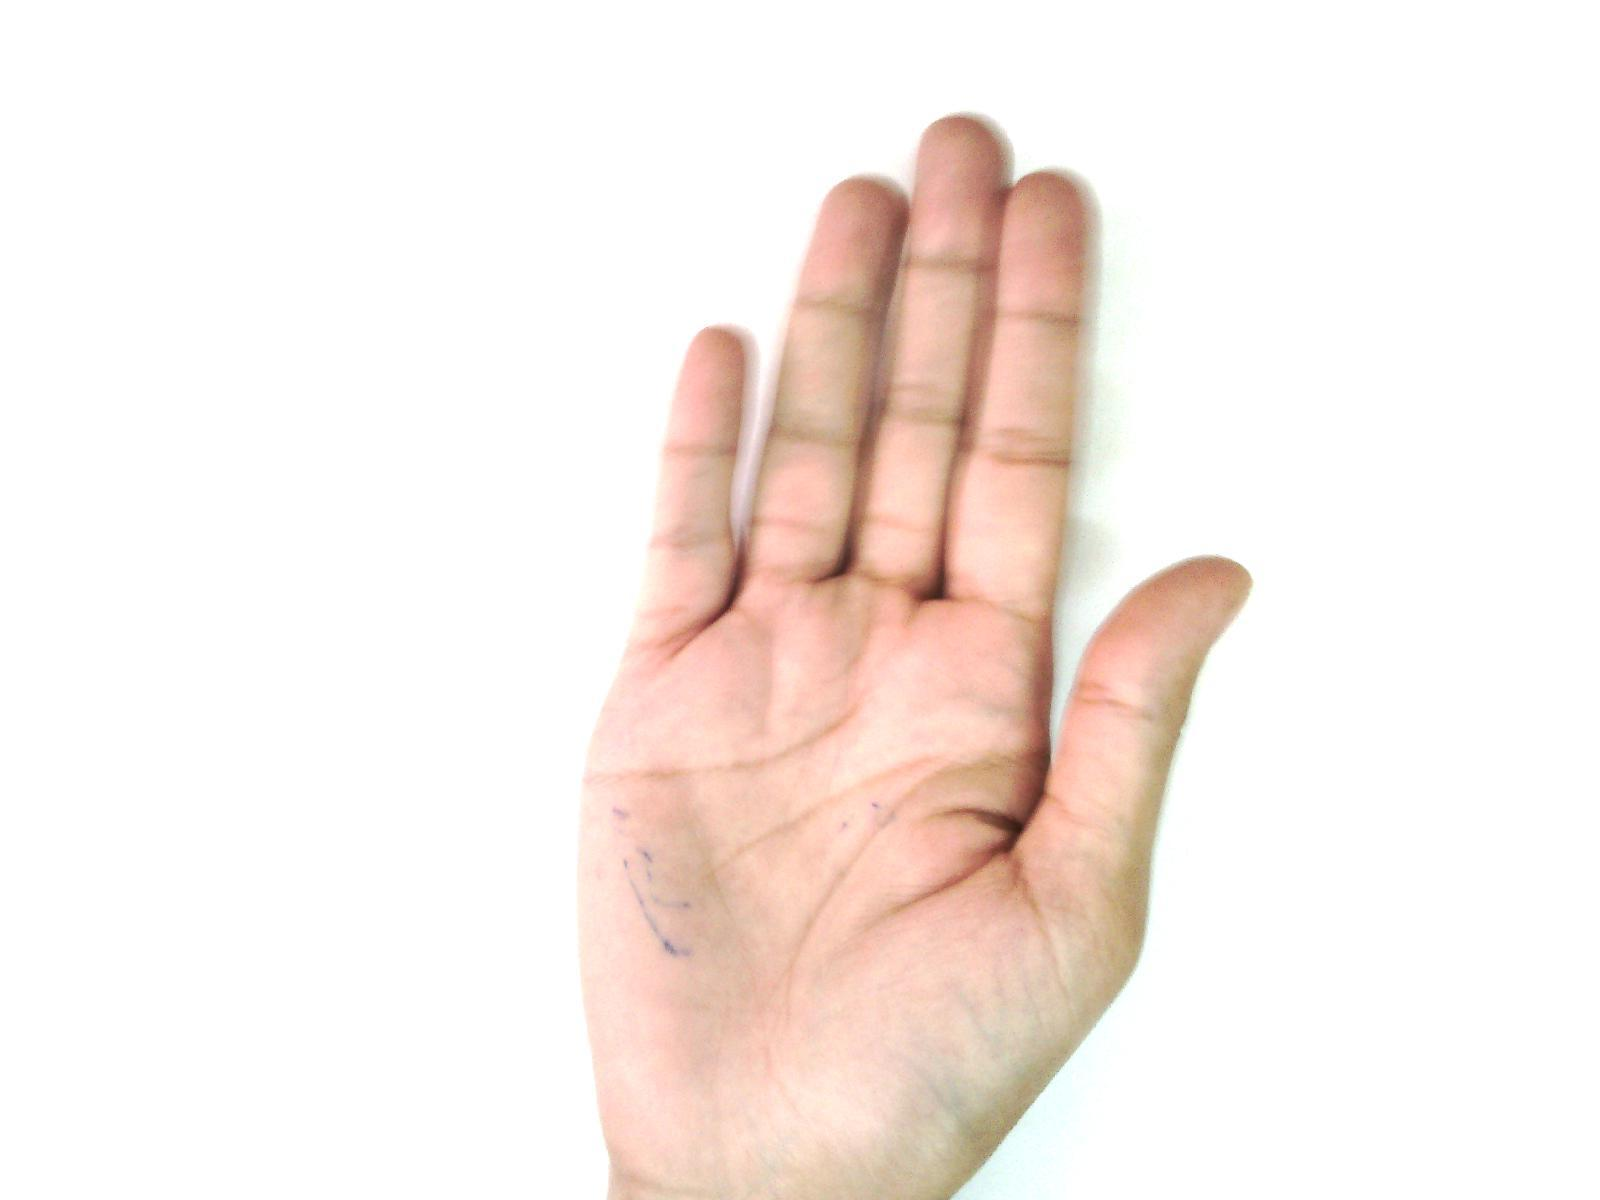hand: (552, 105, 1266, 1185)
